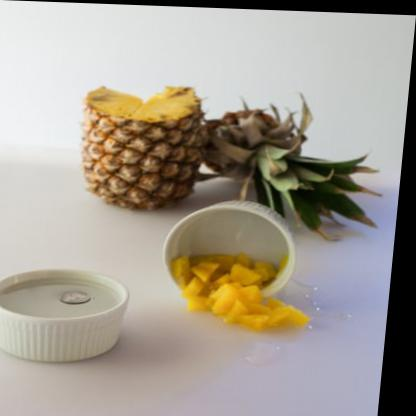pineapple: (79, 81, 210, 210)
